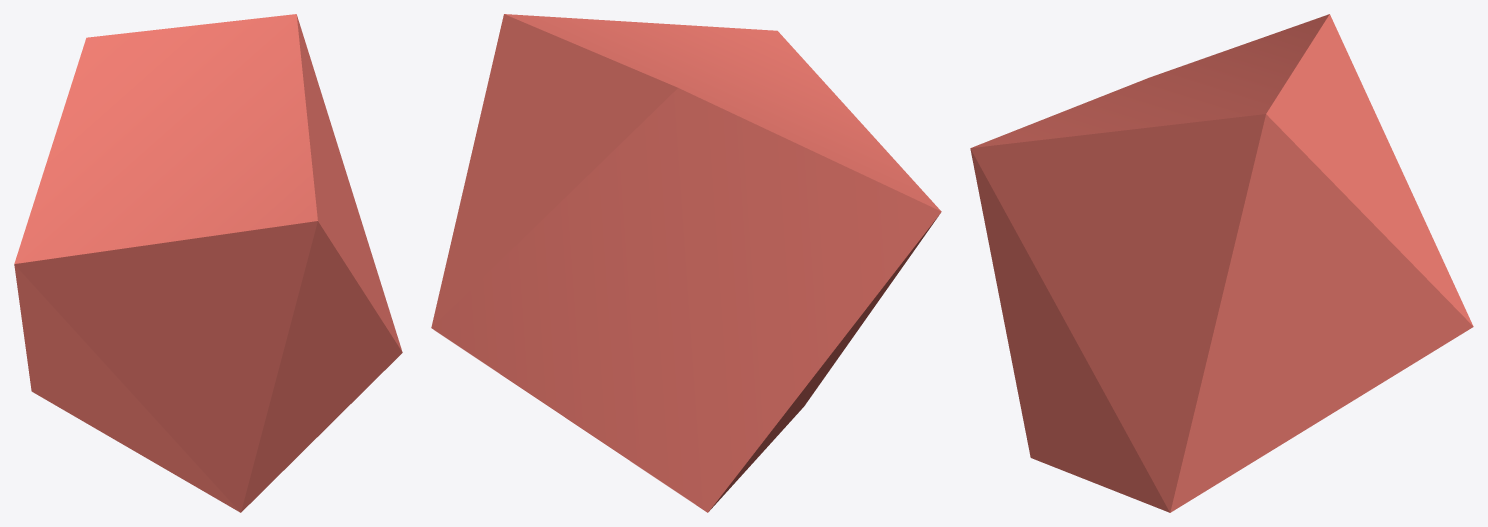
File: Rock_03.glb
3 renders of one model, left to right at view 1: azimuth 30°, elevation 25°; view 2: azimuth 150°, elevation 25°; view 3: azimuth 270°, elevation 25°, orthographic. The views are drawn at different scales.
Parts seen in each view (by area): view 1: Rock_03; view 2: Rock_03; view 3: Rock_03.
Part boxes in pixels (x1,y1,x2,y2): Rock_03: (14,14,402,512); Rock_03: (431,14,941,512); Rock_03: (970,14,1473,512).
Bounding box in the file's own units: 16.63 × 15.32 × 16.18.
